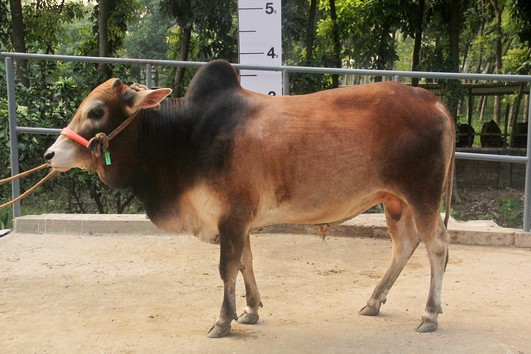cow: (40, 53, 465, 341)
